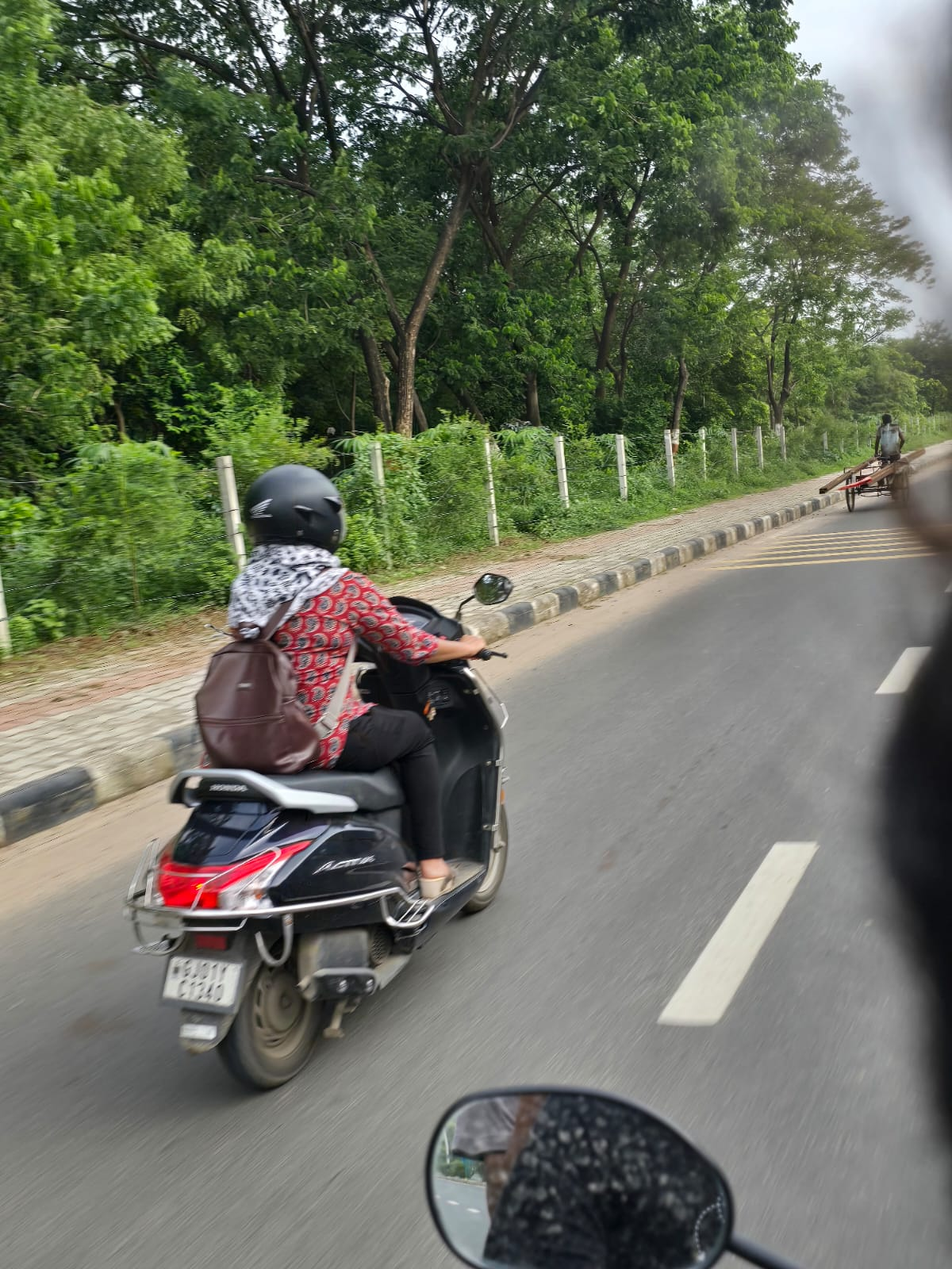BikeWithRider: (109, 450, 533, 1106)
Helmet: (231, 454, 361, 562)
